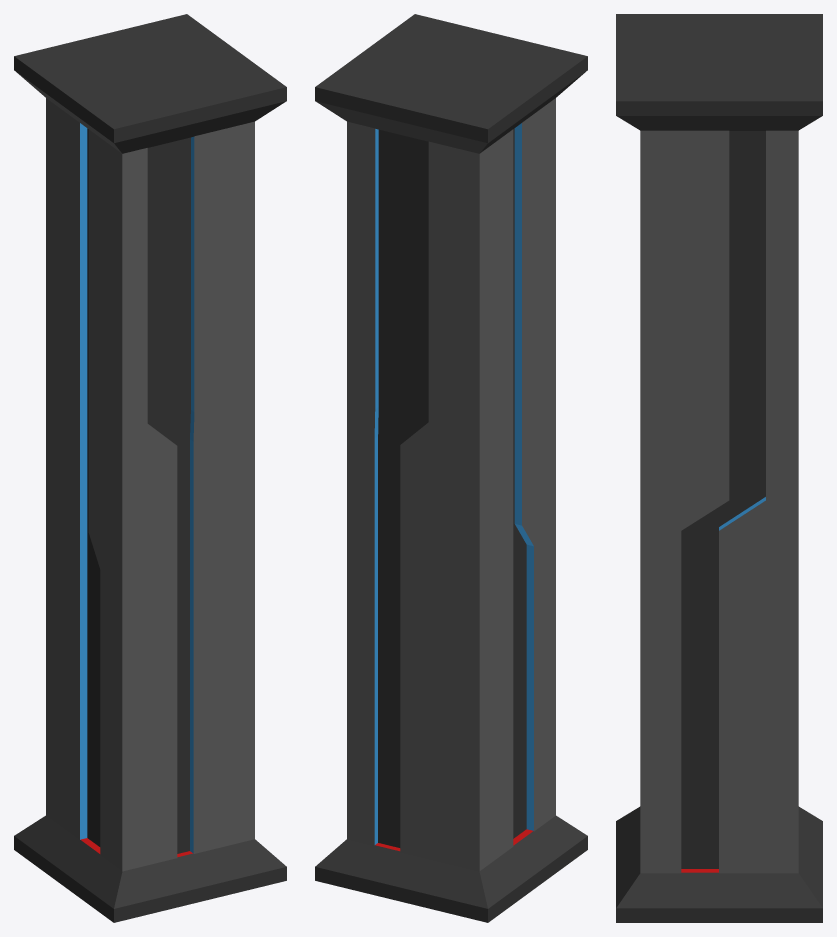
The model's file is SciFi_Pillar.fbx.
3 renders of one model, left to right at view 1: azimuth 30°, elevation 25°; view 2: azimuth 150°, elevation 25°; view 3: azimuth 270°, elevation 25°, orthographic. The views are drawn at different scales.
Visible parts, largest first — view 1: SciFi_Pillar; view 2: SciFi_Pillar; view 3: SciFi_Pillar.
Boxes of the visible parts, x1=… form: SciFi_Pillar: x1=14, y1=14, x2=286, y2=922; SciFi_Pillar: x1=315, y1=14, x2=587, y2=922; SciFi_Pillar: x1=616, y1=14, x2=822, y2=922.
Bounding box in the file's own units: 84.85 × 372 × 84.85.
